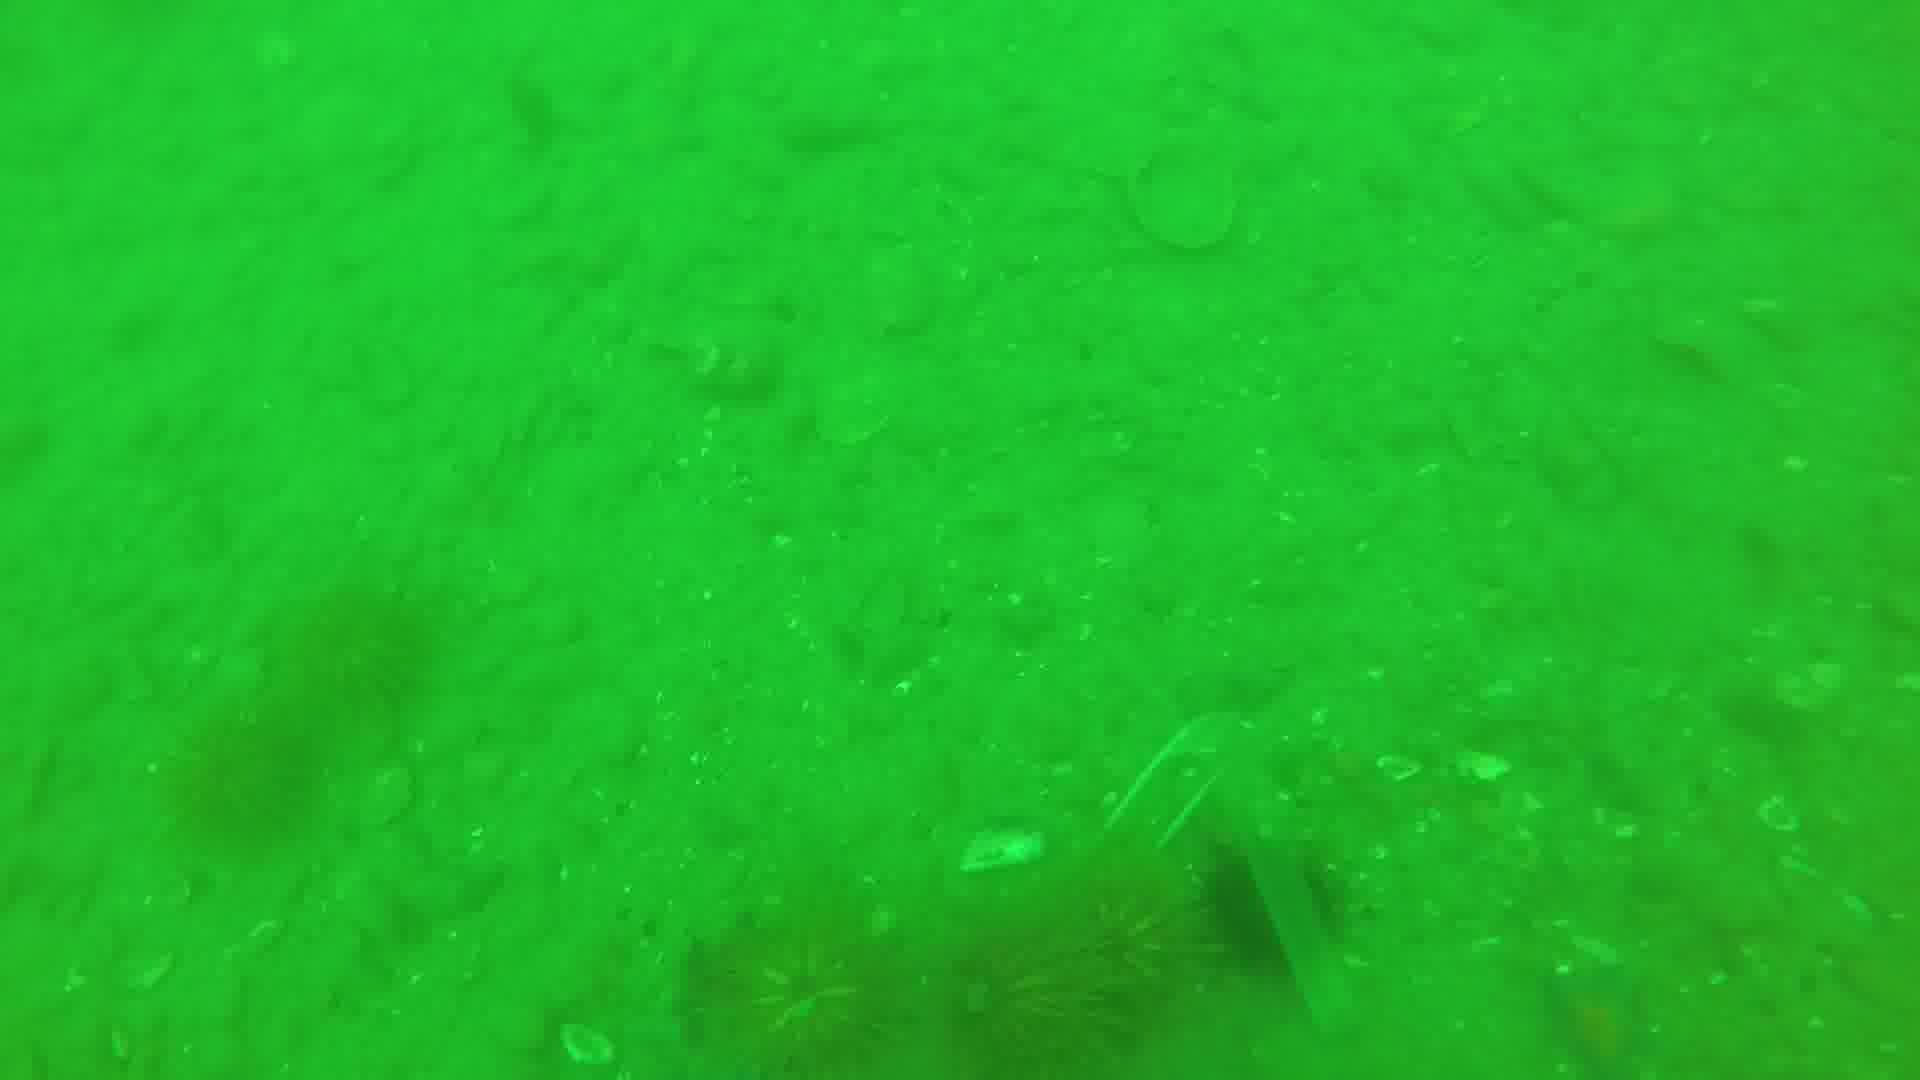echinus: (965, 894, 1191, 1080), (724, 916, 906, 1080), (284, 582, 439, 735), (158, 720, 313, 855), (1215, 839, 1357, 978)
scallop: (1118, 145, 1240, 253)
starfish: (1556, 976, 1652, 1080)
